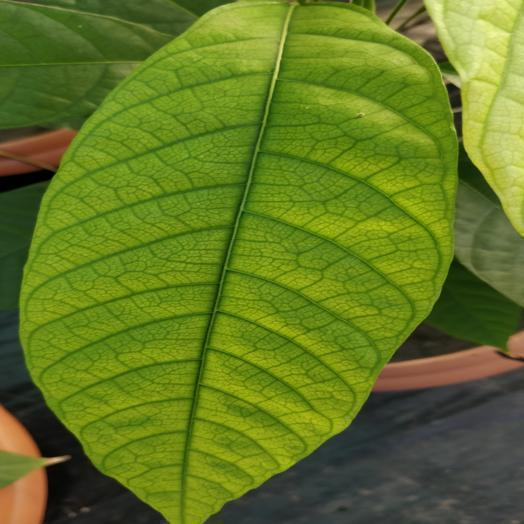Healthy Leaf: (0, 0, 228, 128), (455, 156, 523, 307)
Iron: (20, 0, 456, 523), (425, 0, 523, 234)
